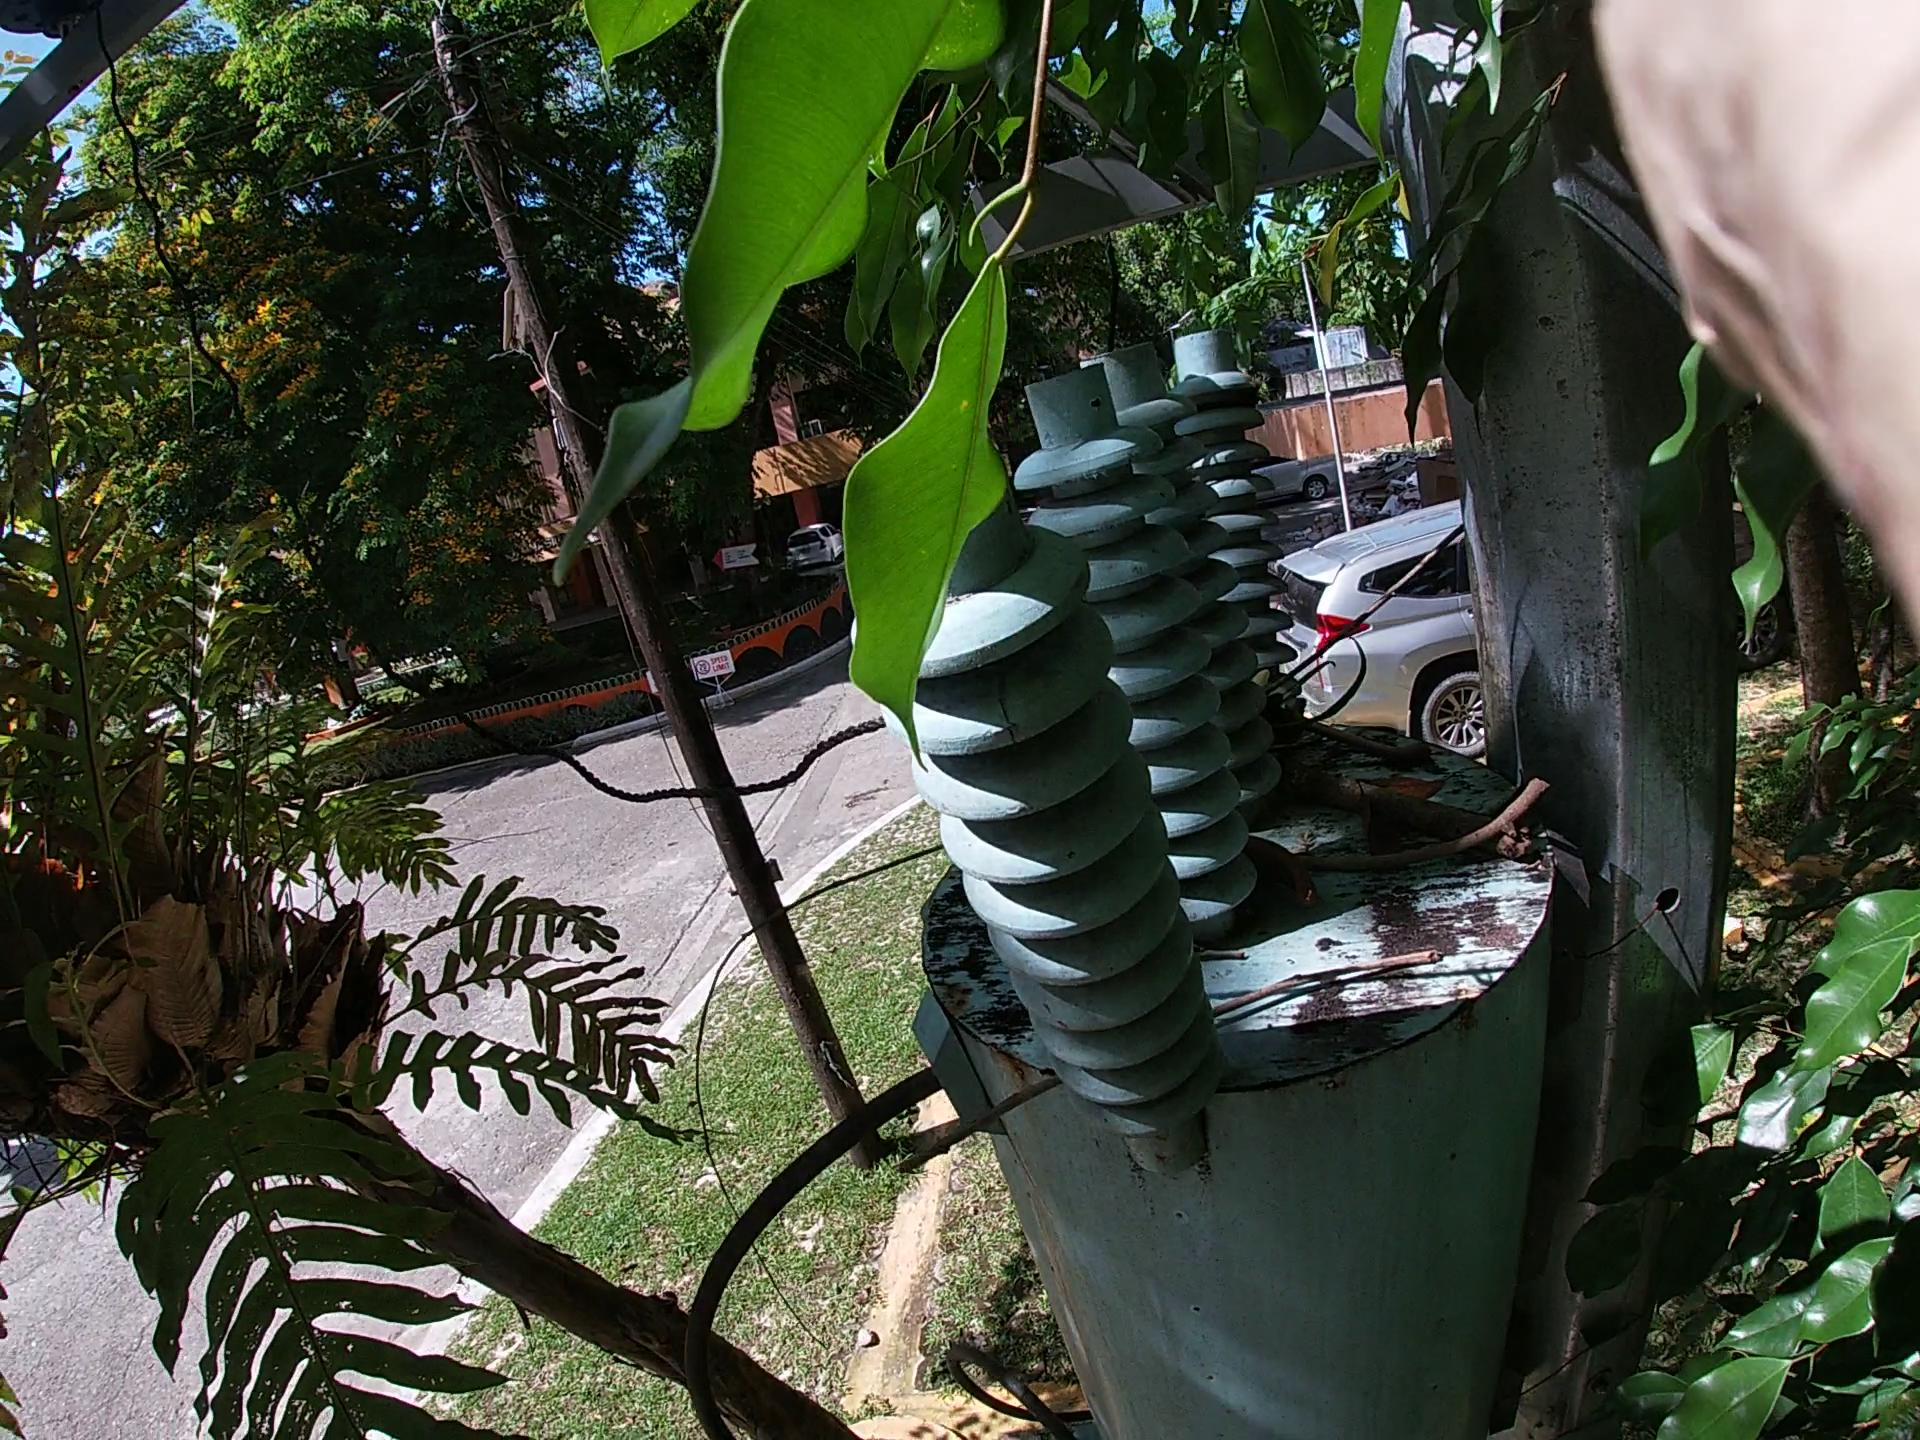leaf: (1361, 756, 1516, 902)
mahogany fruit: (1256, 734, 1503, 880)
tree branch: (568, 408, 1562, 1251), (930, 924, 1483, 1175), (1249, 743, 1553, 891), (1333, 734, 1541, 948)
